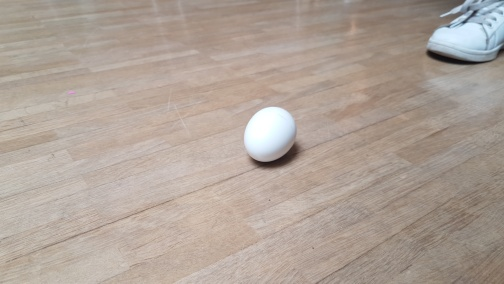egg: (242, 105, 298, 163)
